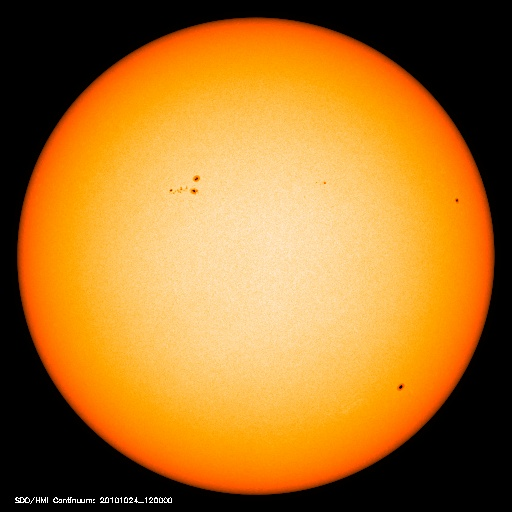sunspot: (160, 169, 210, 203), (386, 370, 412, 402), (444, 188, 470, 211), (309, 173, 334, 194)
